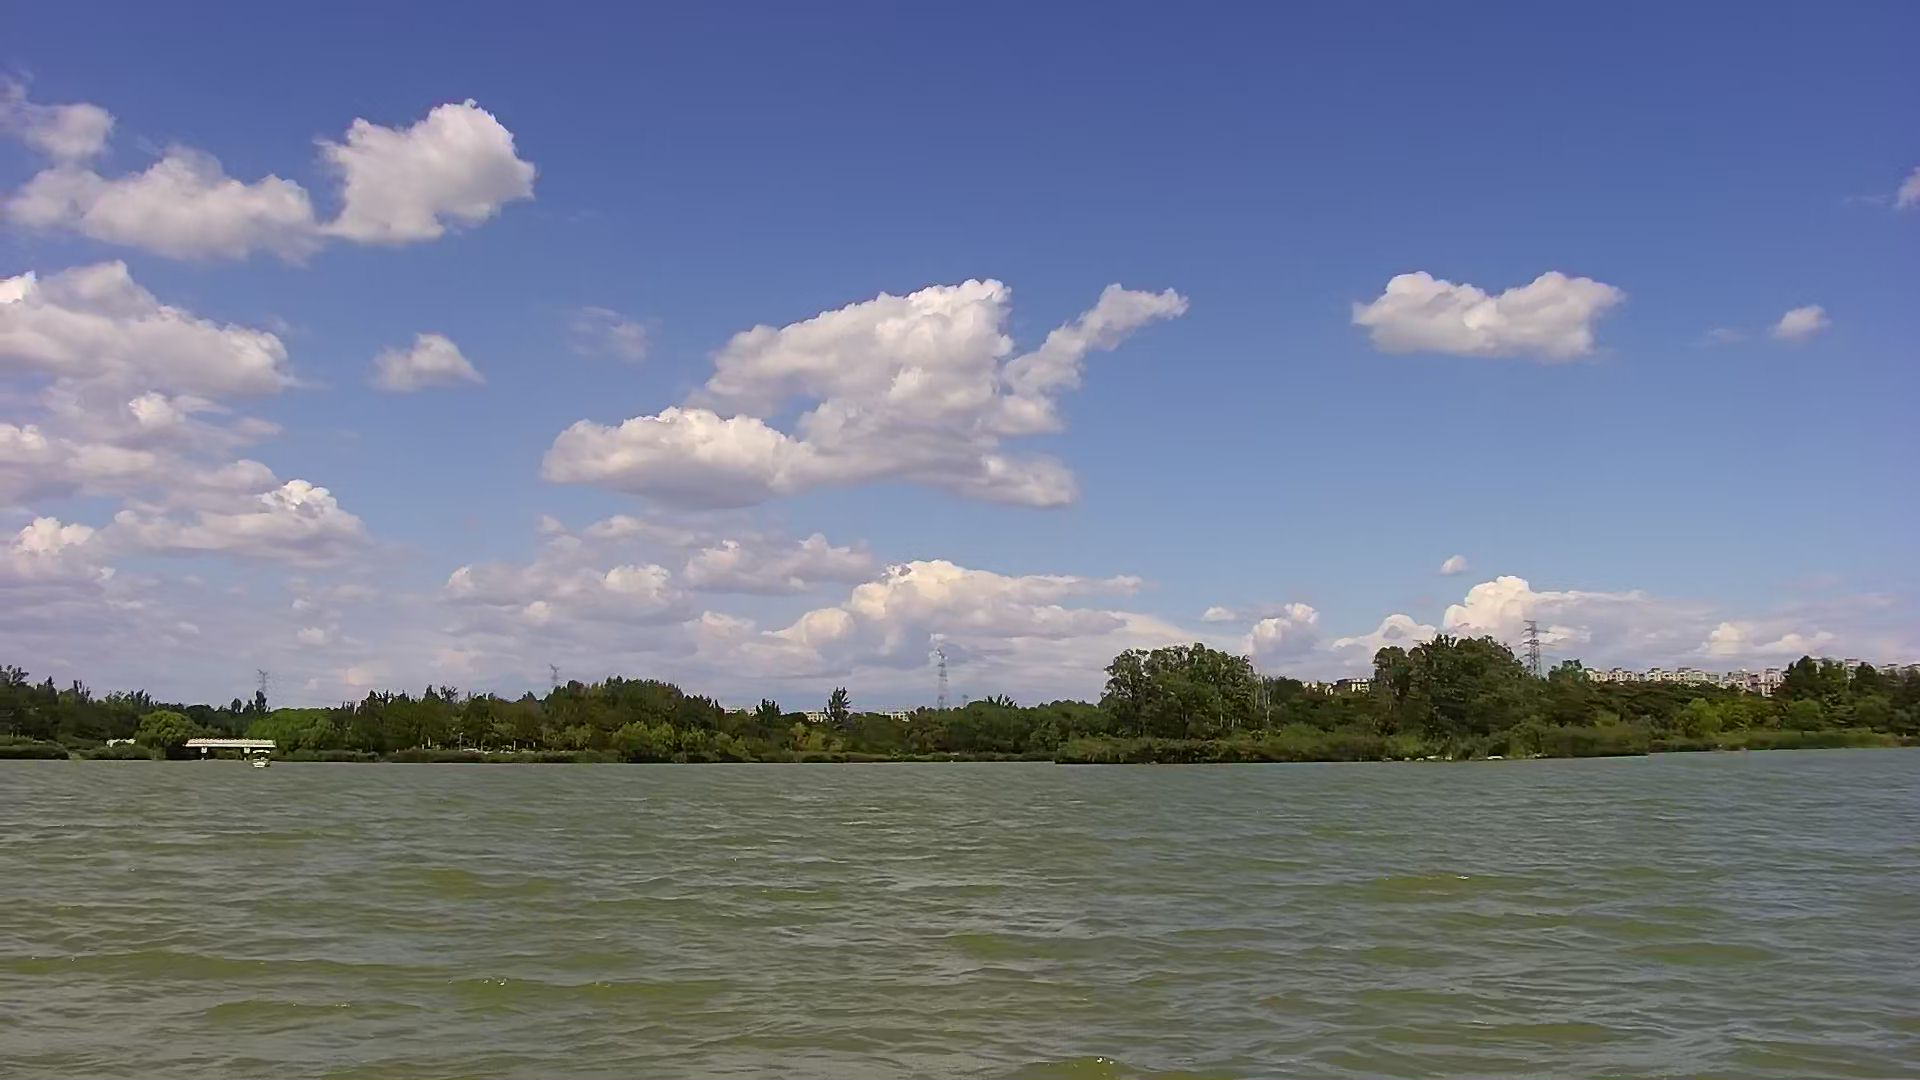boat: (247, 748, 280, 774)
bridge: (175, 727, 287, 764)
